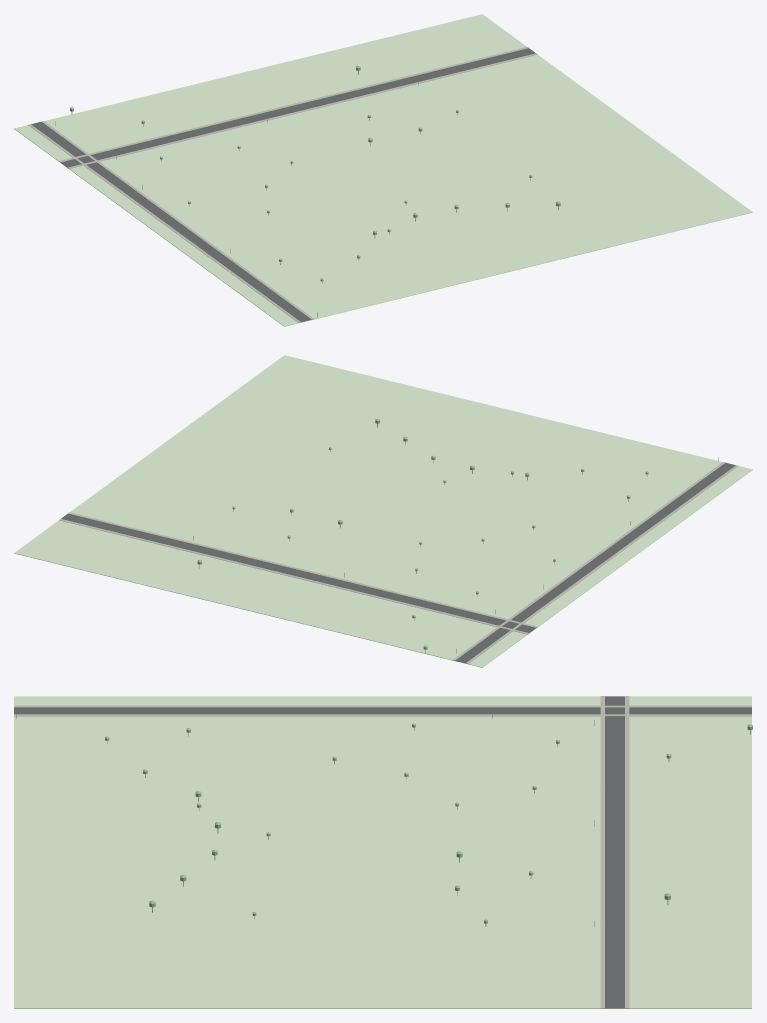
Rendered from chunk_2_4_low.glb.
The picture shows the model from 3 angles, top to bottom: view 1: azimuth 30°, elevation 25°; view 2: azimuth 150°, elevation 25°; view 3: azimuth 270°, elevation 25°; orthographic projection. The views are drawn at different scales.
Visible parts, largest first — view 1: city_grass, city_world_asphalt, city_world_sidewalk, city_curb; view 2: city_grass, city_world_asphalt, city_world_sidewalk, city_curb; view 3: city_grass, city_world_asphalt, city_world_sidewalk, city_curb, city_foliage_dark.
Part boxes in pixels (x1,y1,x2,y2): city_grass: (14,14,752,326); city_world_asphalt: (31,48,535,322); city_world_sidewalk: (28,47,537,322); city_curb: (31,48,535,321); city_grass: (14,355,752,667); city_world_asphalt: (61,463,735,663); city_world_sidewalk: (59,462,738,663); city_curb: (61,462,735,662); city_grass: (14,696,751,1008); city_world_asphalt: (14,696,751,1008); city_world_sidewalk: (14,696,751,1008); city_curb: (14,696,751,1007); city_foliage_dark: (105,723,752,923).
Bounding box in the file's own units: 512 × 9.49 × 513.
